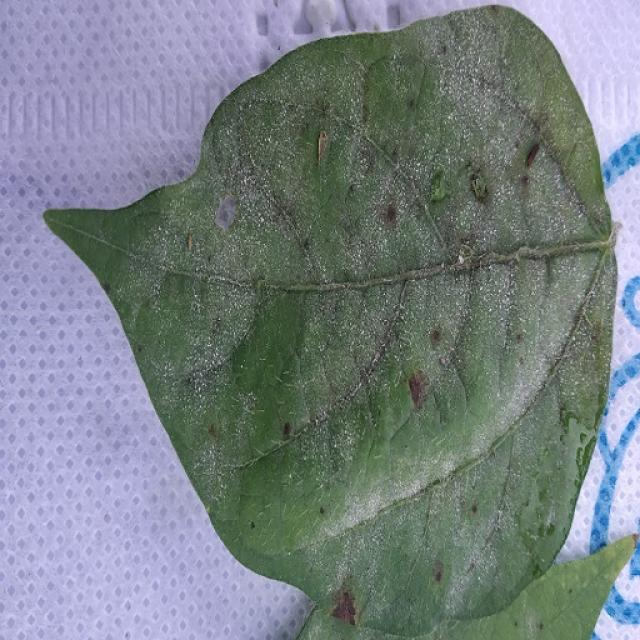Blackgram: (45, 6, 631, 639)
Powdery_Mildew: (311, 471, 454, 624), (212, 99, 322, 222), (527, 263, 606, 395), (158, 279, 248, 391), (348, 441, 459, 518), (436, 34, 513, 138), (323, 282, 407, 372), (457, 261, 524, 334), (147, 206, 199, 263), (241, 175, 254, 188), (259, 215, 265, 224)
